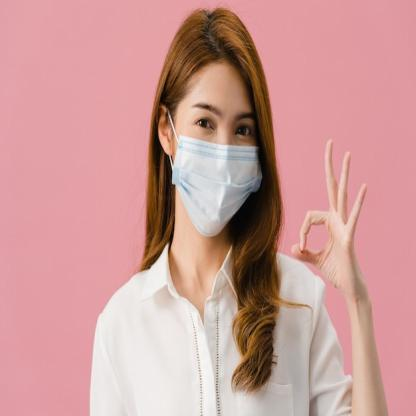ok: (289, 136, 370, 294)
